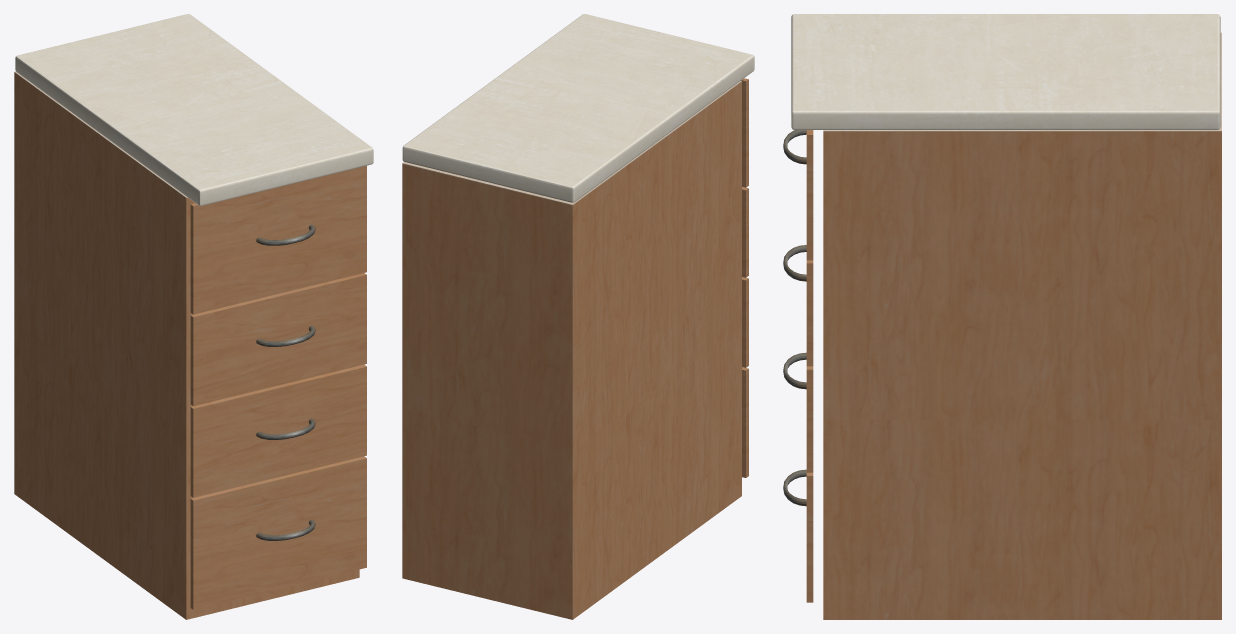
Rendered from Cabinet2.fbx.
3 views of the same model, side by side, from view 1: azimuth 30°, elevation 25°; view 2: azimuth 150°, elevation 25°; view 3: azimuth 270°, elevation 25° (orthographic). The views are drawn at different scales.
Parts seen in each view (by area): view 1: polySurface421; view 2: polySurface421; view 3: polySurface421.
Boxes of the visible parts, box(x1,y1,x2,y2) form: polySurface421: box(14, 14, 373, 619); polySurface421: box(402, 14, 754, 619); polySurface421: box(783, 14, 1221, 619).
Size of the model in its own units: 0.3822 by 0.9156 by 0.7153.
Materials: 1 (1 with a texture image).
